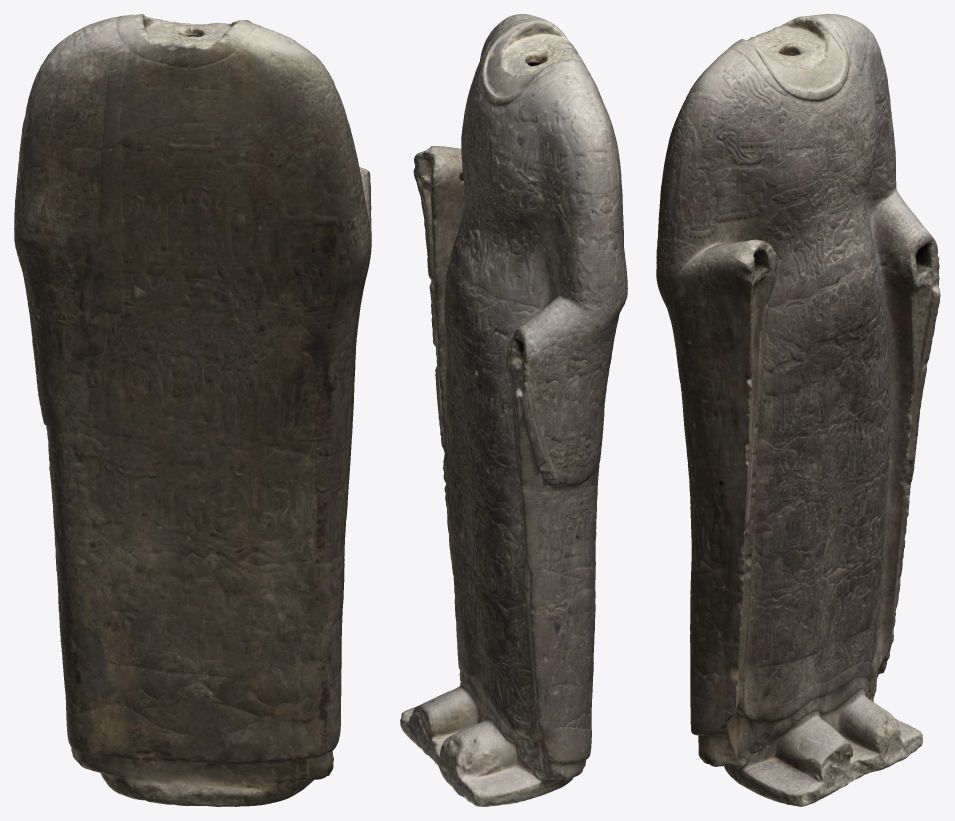
Rendered from bouddha-cosmique.glb.
The picture shows the model from 3 angles, left to right: view 1: azimuth 30°, elevation 25°; view 2: azimuth 150°, elevation 25°; view 3: azimuth 270°, elevation 25°; orthographic projection. The views are drawn at different scales.
Bounding box in the file's own units: 590 × 1515 × 544.
1 material, 1 textured.
